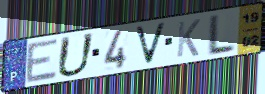4: (102, 28, 129, 70)
E: (24, 37, 60, 85)
K: (175, 17, 203, 59)
L: (204, 12, 238, 58)
U: (55, 31, 97, 79)
V: (133, 21, 169, 67)
